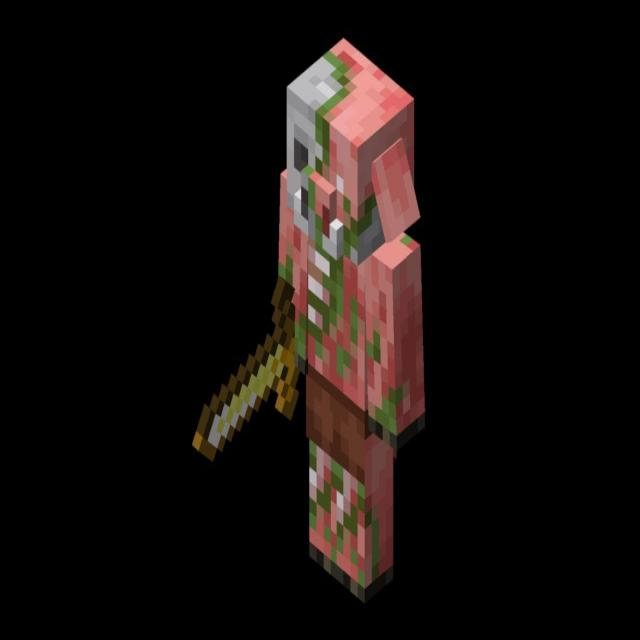Zombified Piglin: (192, 35, 426, 603)
